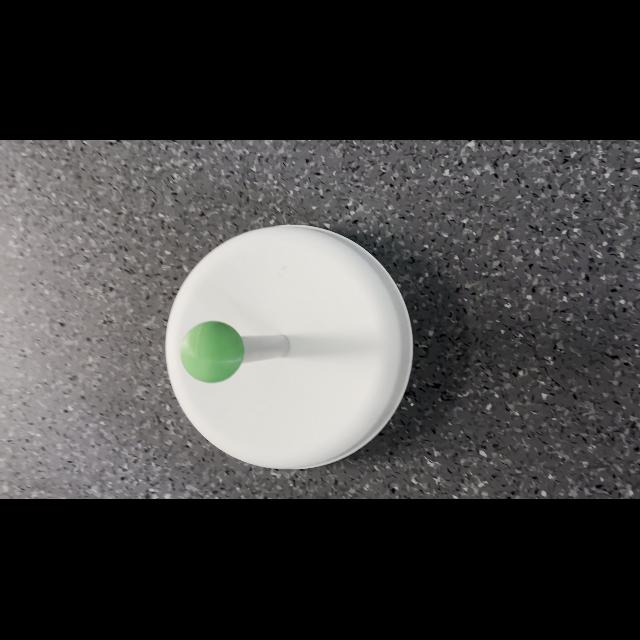objects: (175, 313, 252, 389)
